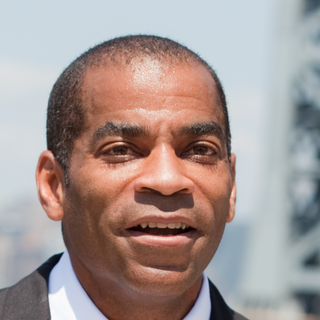eye: (173, 138, 223, 166), (94, 138, 146, 164)
